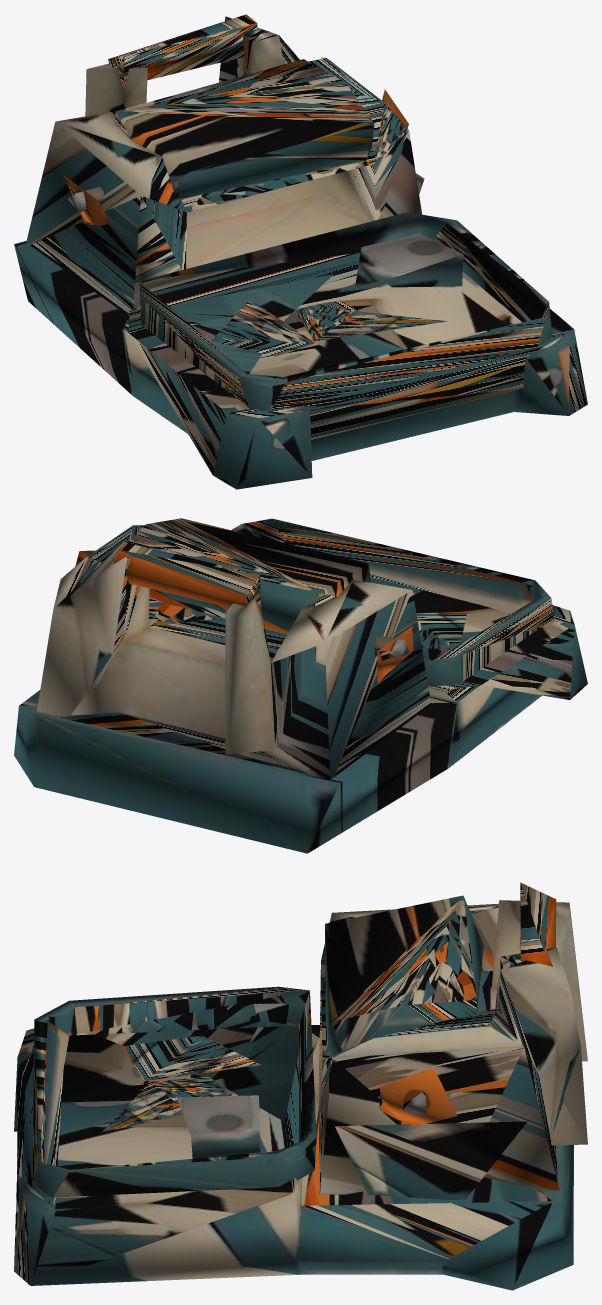
File: source_plastic-lod1.92dfeb2edf48.glb
3 renders of one model, top to bottom at view 1: azimuth 30°, elevation 25°; view 2: azimuth 150°, elevation 25°; view 3: azimuth 270°, elevation 25°, orthographic. The views are drawn at different scales.
Visible parts, largest first — view 1: geometry_0; view 2: geometry_0; view 3: geometry_0.
Boxes of the visible parts, bbox=[...] form: geometry_0: bbox=[14, 14, 587, 489]; geometry_0: bbox=[14, 518, 587, 853]; geometry_0: bbox=[14, 882, 587, 1290].
Bounding box in the file's own units: 0.8095 × 0.5263 × 1.
Materials: 1 (1 with a texture image).
